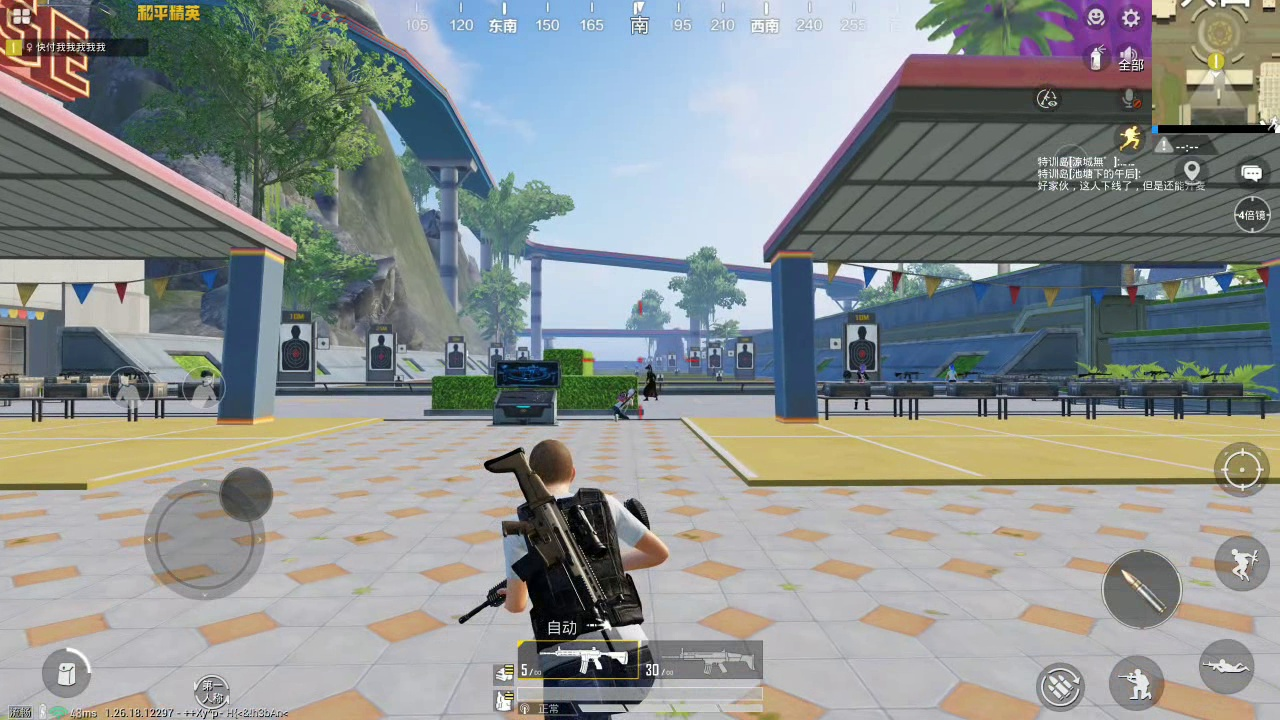enemy: (852, 361, 875, 412), (640, 363, 663, 402), (611, 384, 633, 423), (944, 361, 962, 386)
